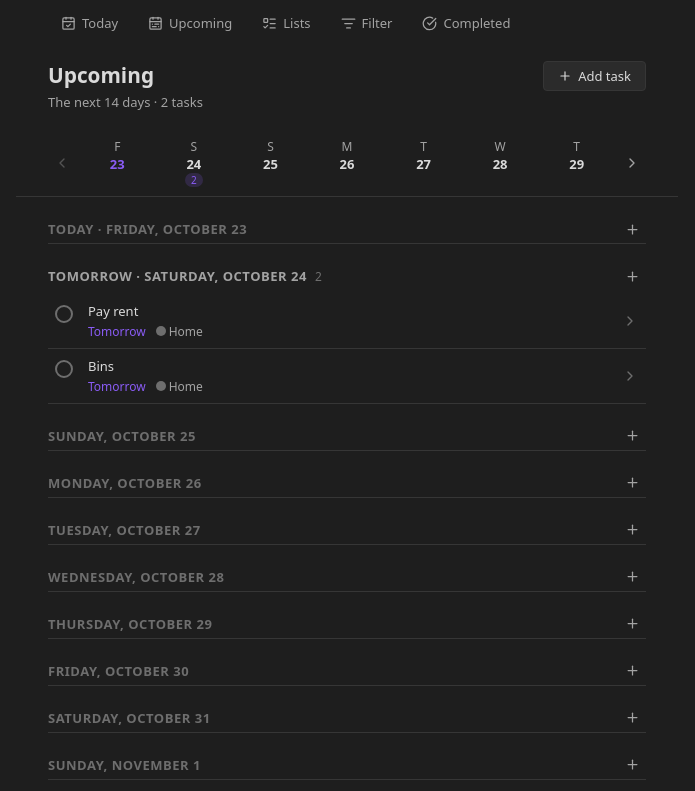
Upcoming page (ROADMAP item 4) › shows how busy each day of the week is, and jumps to a day
The image size is (695, 791).
Expected: the text "Pay rent" is shown, [88,302,138,320]
Click the button "S 24 2" at (194, 162), box [157,135,231,190]
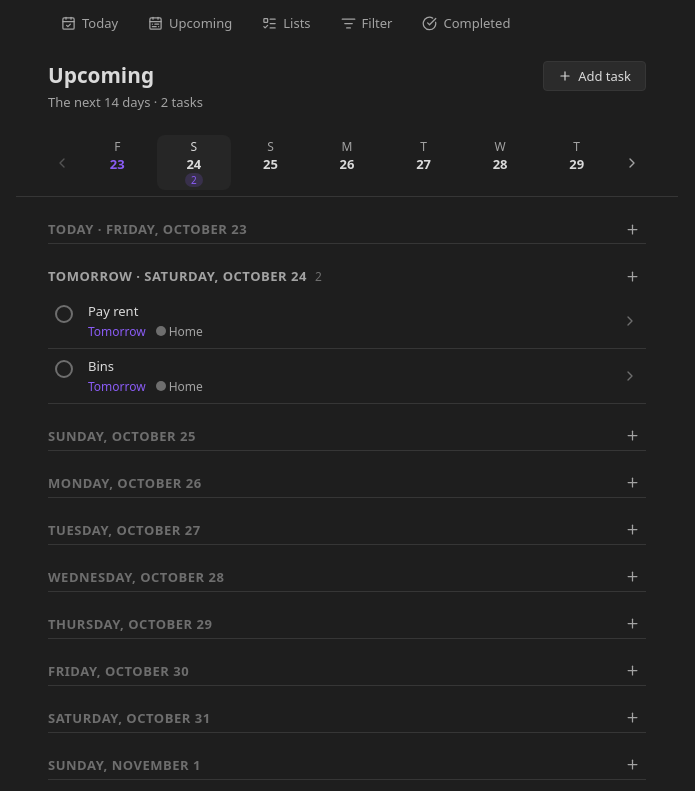
Click the button named "Next week" at (632, 162), box [618,148,646,176]
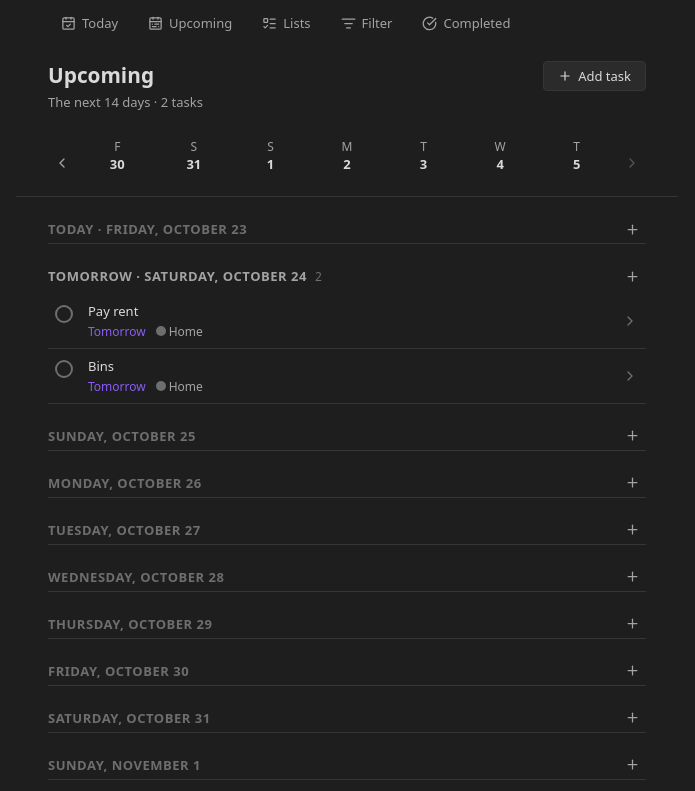
Expected: the element named "Next week" is shown, [16,129,678,197]
